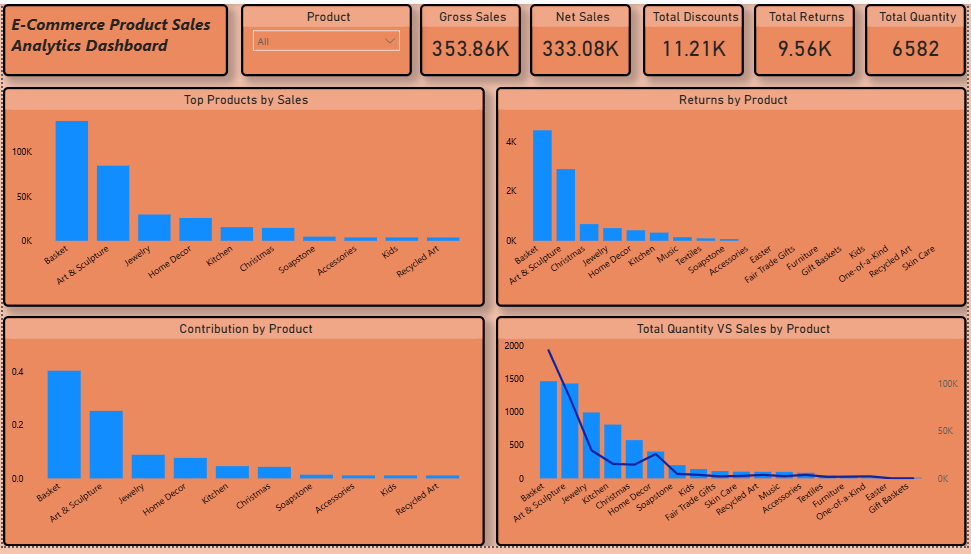

Layout of this report page (visuals, bound fields, positions):
{"tool":"powerbi","page":{"name":"Product Sales Analytics","canvas":[1280,720],"ordinal":1},"visuals":[{"type":"card","title":"Net Sales","fields":{"Values":["e_commerce_sales_analysis product_sales.Total Sales"]},"box":[700.5,0,134.4,95.7],"z":0},{"type":"card","title":"Total Quantity","fields":{"Values":["e_commerce_sales_analysis product_sales.Total Quantity"]},"box":[1145.6,0,134.4,95.7],"z":1000},{"type":"card","title":"Total Returns","fields":{"Values":["e_commerce_sales_analysis product_sales.Total Returns"]},"box":[997.8,0,134.4,95.7],"z":2000},{"type":"clusteredColumnChart","title":"Top Products by Sales ","fields":{"Category":["e_commerce_sales_analysis product_sales.product_type"],"Y":["Sum(e_commerce_sales_analysis product_sales.total_net_sales)"]},"box":[0,110.9,640,292.3],"z":3000},{"type":"clusteredColumnChart","title":"Returns by Product","fields":{"Category":["e_commerce_sales_analysis product_sales.product_type"],"Y":["e_commerce_sales_analysis product_sales.Total Returns"]},"box":[655.1,110.9,624.9,292.3],"z":4000},{"type":"card","title":"Gross Sales","fields":{"Values":["Sum(e_commerce_sales_analysis product_sales.gross_sales)"]},"box":[554.3,0,134.4,95.7],"z":6000},{"type":"card","title":"Total Discounts","fields":{"Values":["e_commerce_sales_analysis product_sales.Total Discounts"]},"box":[850,0,134.4,95.7],"z":7000},{"type":"lineClusteredColumnComboChart","title":"Total Quantity VS Sales by Product","fields":{"Category":["e_commerce_sales_analysis product_sales.product_type"],"Y":["e_commerce_sales_analysis product_sales.Total Quantity"],"Y2":["e_commerce_sales_analysis product_sales.Total Sales"]},"box":[655.1,414.9,624.9,305.7],"z":8000},{"type":"clusteredColumnChart","title":"Contribution by Product","fields":{"Category":["e_commerce_sales_analysis product_sales.product_type"],"Y":["e_commerce_sales_analysis product_sales.Contribution %"]},"box":[0,414.9,640,305.7],"z":9000},{"type":"textbox","box":[0,0,299,95.7],"z":10000},{"type":"slicer","title":"Product","fields":{"Values":["e_commerce_sales_analysis product_sales.product_type"]},"box":[315.8,0,226.8,95.7],"z":11000}]}

Visuals, with their boxes in screenshot pixels (x1, y1, x2, y2), scaled from the page's 1280x720 canvas onto the 971x554 screenshot:
"Net Sales" card: <box>531,0,633,74</box>
"Total Quantity" card: <box>869,0,970,74</box>
"Total Returns" card: <box>757,0,859,74</box>
"Top Products by Sales " clusteredColumnChart: <box>0,85,486,310</box>
"Returns by Product" clusteredColumnChart: <box>497,85,970,310</box>
"Gross Sales" card: <box>420,0,522,74</box>
"Total Discounts" card: <box>645,0,747,74</box>
"Total Quantity VS Sales by Product" lineClusteredColumnComboChart: <box>497,319,970,553</box>
"Contribution by Product" clusteredColumnChart: <box>0,319,486,553</box>
textbox: <box>0,0,227,74</box>
"Product" slicer: <box>240,0,412,74</box>
